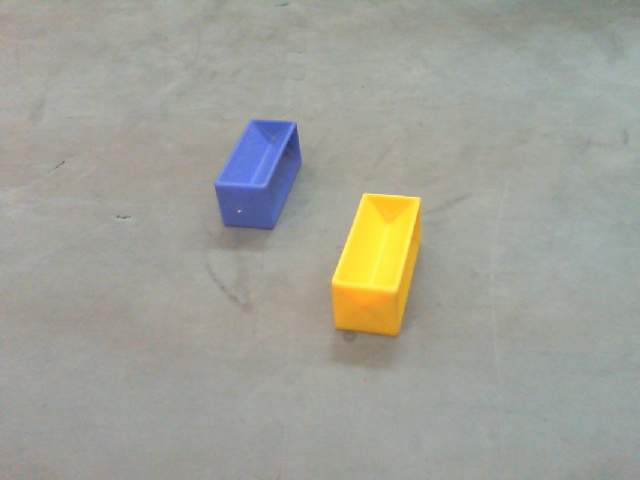BlueSample: (210, 114, 306, 237)
YellowSample: (328, 191, 423, 341)
